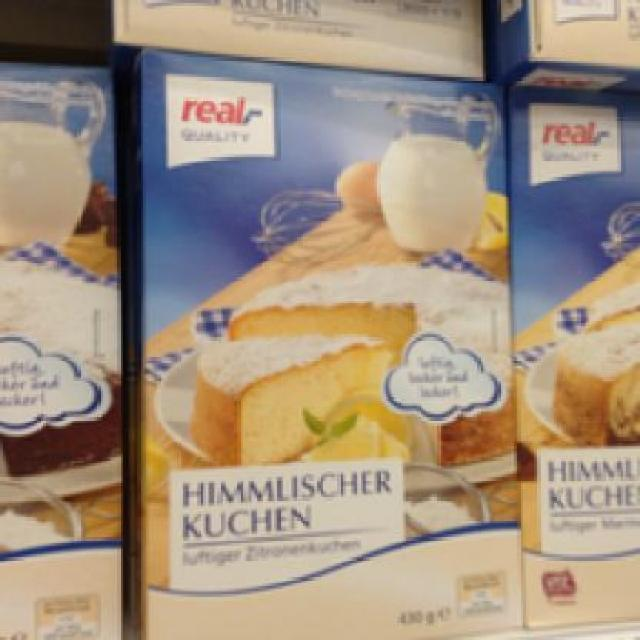Cake: (122, 42, 518, 638), (502, 74, 638, 617)
